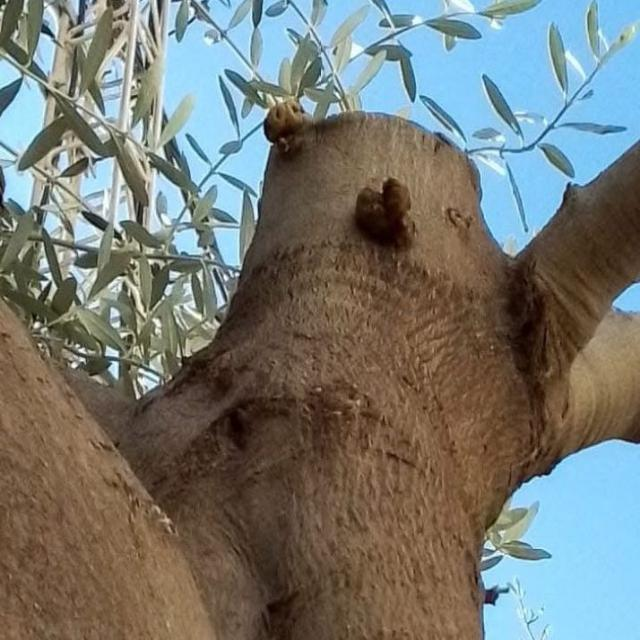Tuberculosis: (355, 177, 417, 252), (262, 96, 316, 155)
